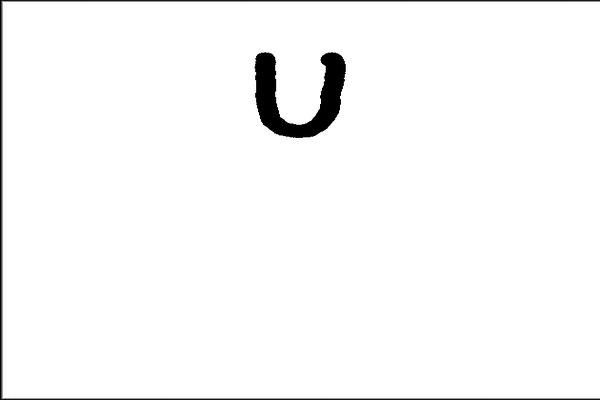U: (237, 41, 355, 139)
